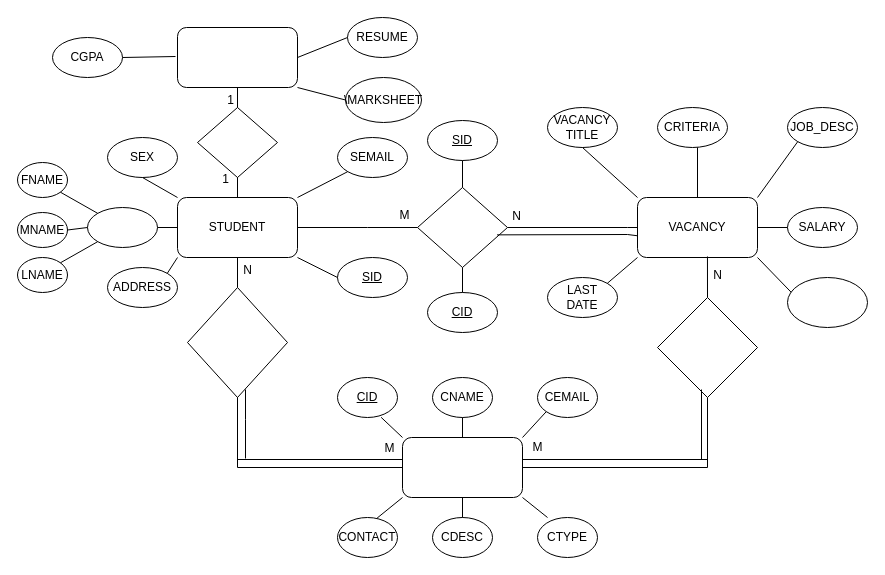
Some shapes in this 885 by 575 pixel diagram are drawn without their labels. The box of each missing label's shape, as (x1, y1, x2, y2) in pixels:
APPLY: (416, 186, 508, 268)
COMPANY: (402, 436, 522, 498)
JOB OPENINGS: (786, 276, 868, 328)
NAME: (86, 206, 158, 248)
POSTS: (656, 296, 758, 398)
PROVIDE JOB OFFERS: (186, 286, 288, 398)
STUDENT DETAILS: (176, 26, 298, 88)
UPLOADS: (196, 106, 278, 178)
